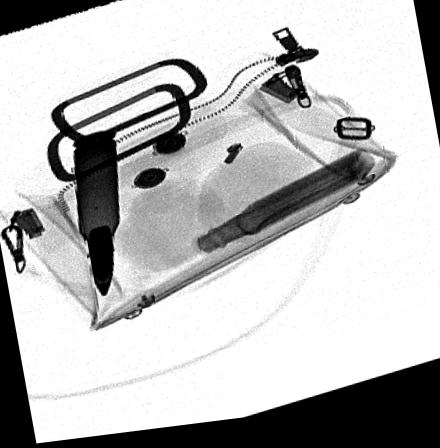Bullet: (71, 133, 122, 304)
